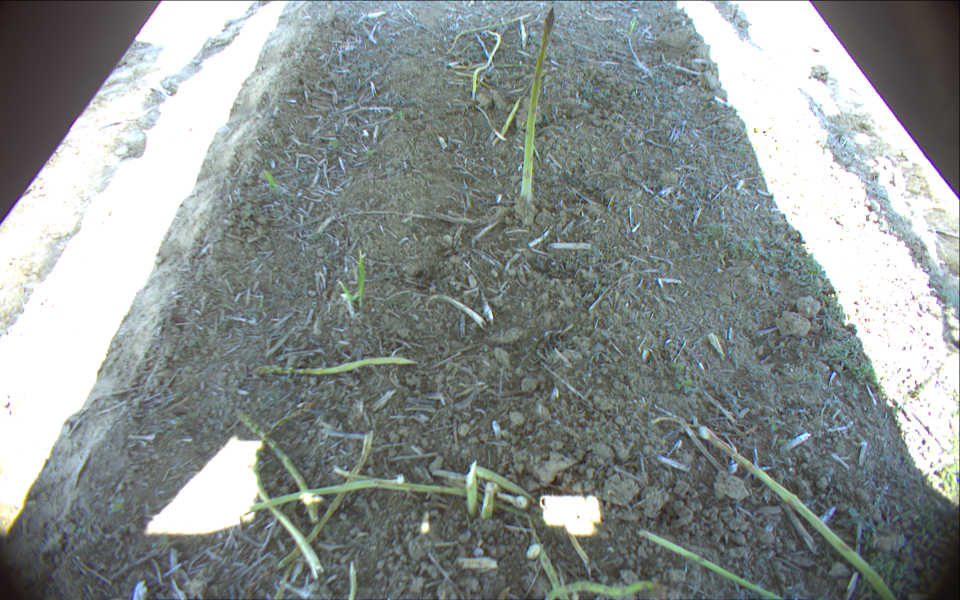aspa: (700, 428, 899, 600), (277, 434, 371, 572), (250, 412, 323, 576), (636, 527, 778, 600), (333, 466, 526, 519), (233, 411, 316, 520), (241, 475, 405, 518), (519, 9, 554, 203), (446, 14, 532, 57), (250, 356, 416, 378), (531, 528, 570, 600), (470, 463, 538, 502), (544, 578, 652, 600), (473, 31, 502, 98), (491, 97, 521, 150), (468, 459, 477, 521), (482, 482, 497, 519)
